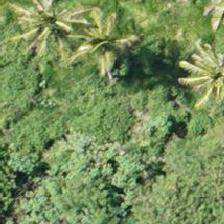coconut_tree: (60, 3, 150, 93), (4, 0, 94, 70), (175, 38, 223, 128)
